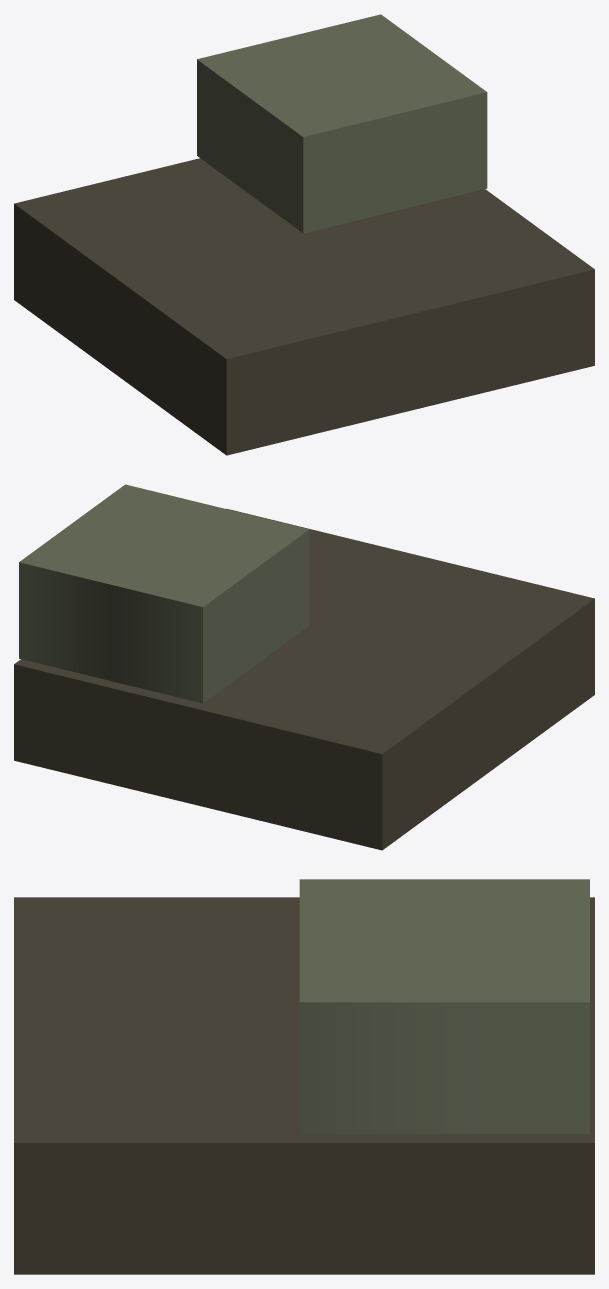
Rendered from Quater grass bottom dirt.fbx.
The picture shows the model from 3 angles, top to bottom: view 1: azimuth 30°, elevation 25°; view 2: azimuth 150°, elevation 25°; view 3: azimuth 270°, elevation 25°; orthographic projection. The views are drawn at different scales.
Parts seen in each view (by area): view 1: polySurface1198; view 2: polySurface1198; view 3: polySurface1198.
Boxes of the visible parts, x1,y1,x2,y2 form: polySurface1198: (14,14,594,455); polySurface1198: (14,484,594,850); polySurface1198: (14,879,594,1274).
Bounding box in the file's own units: 56.97 × 29.24 × 56.97.
